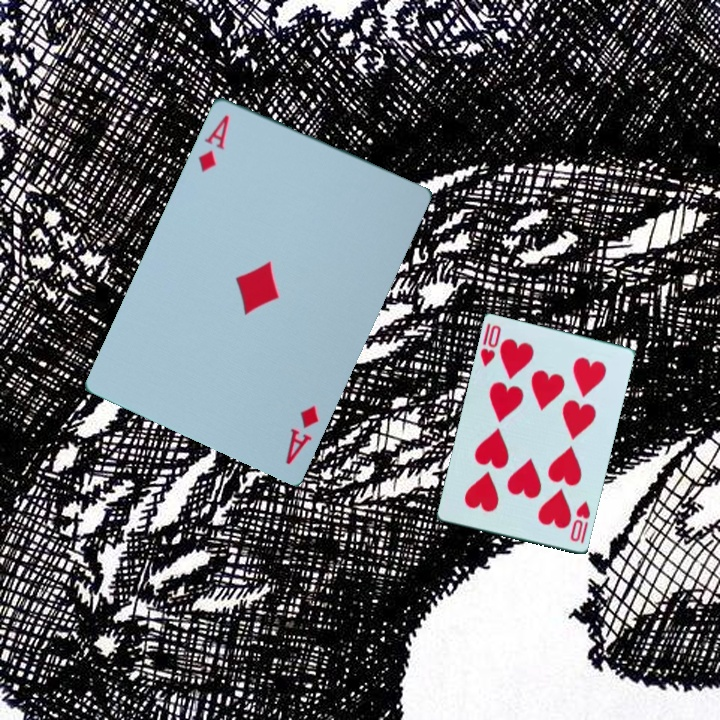10h: (477, 320, 504, 370), (567, 498, 594, 547)
Ad: (281, 401, 322, 467), (194, 110, 232, 175)
